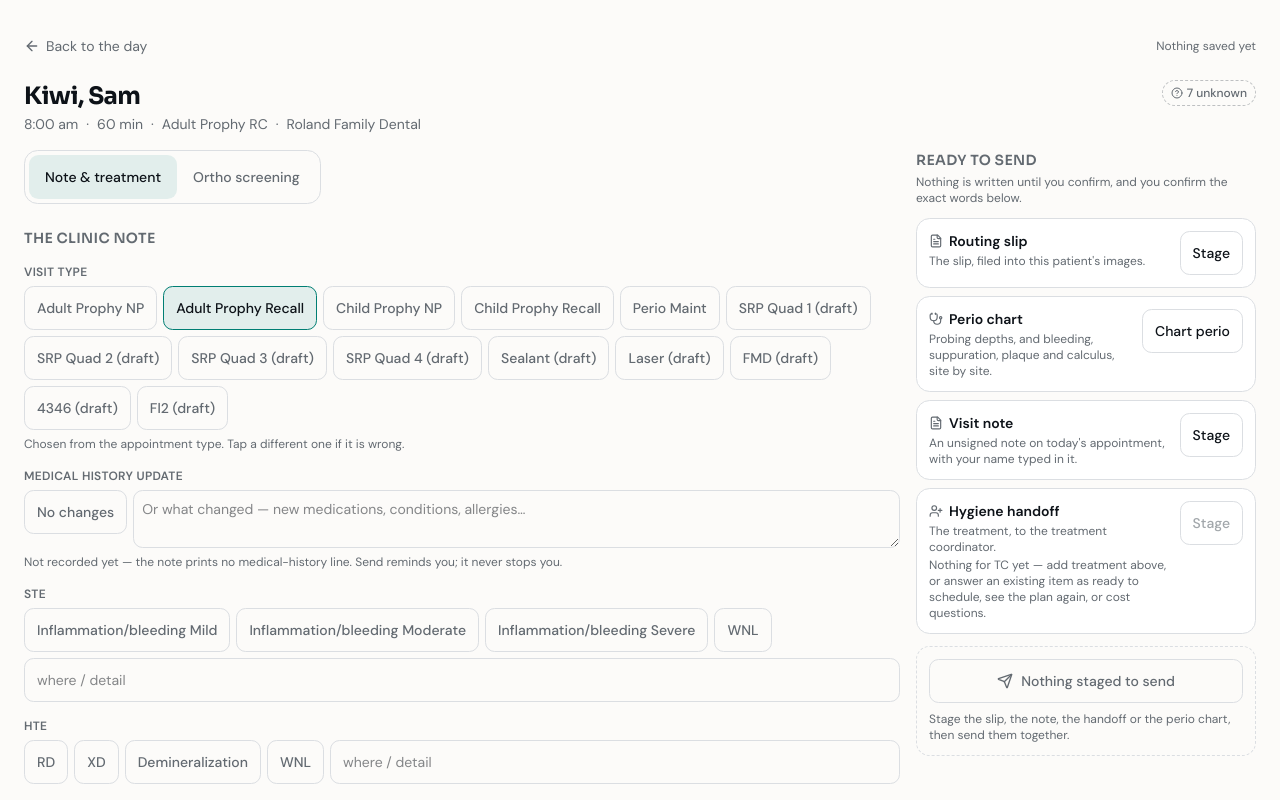
Test case: the visit type › lets her override it, and records that a person chose
Click the button with test id "hyg-note-type-perio_maint" at (670, 308), box [620, 286, 720, 330]
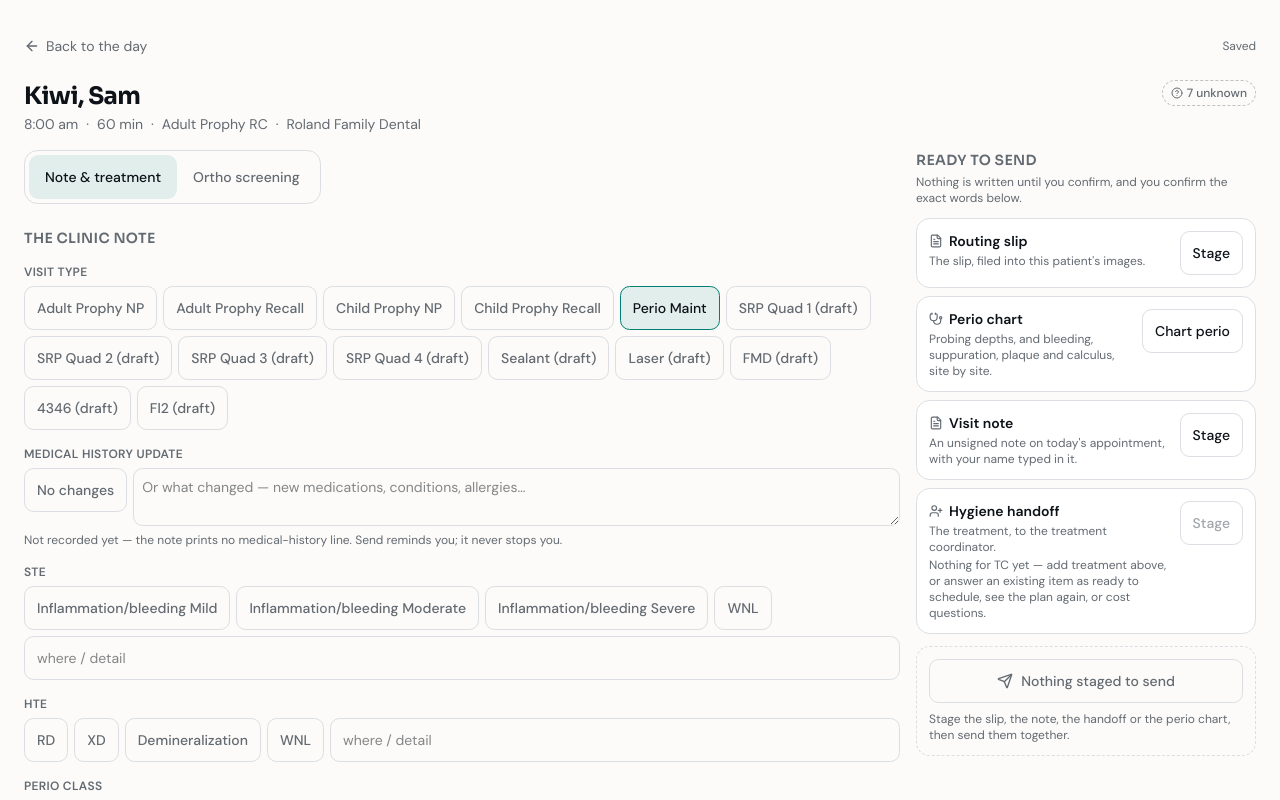
Result: the text with test id "hyg-note-type-auto" is gone
